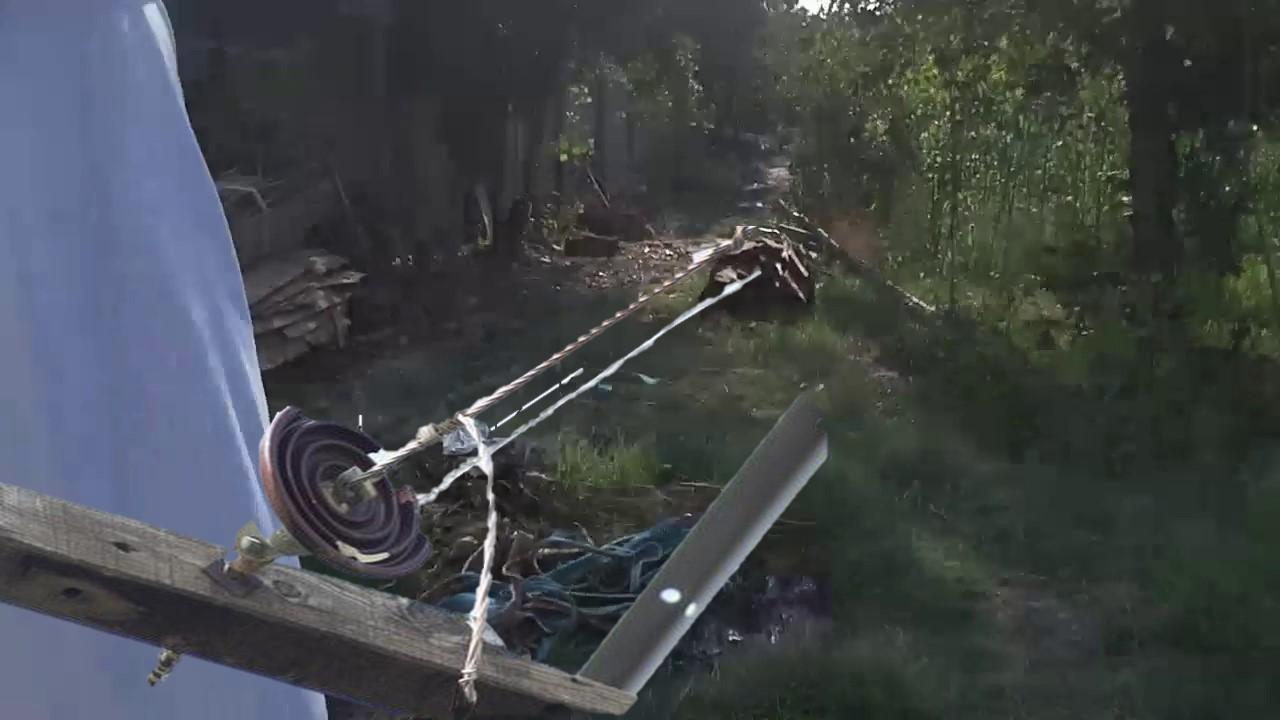defect_disc: (254, 398, 440, 590)
